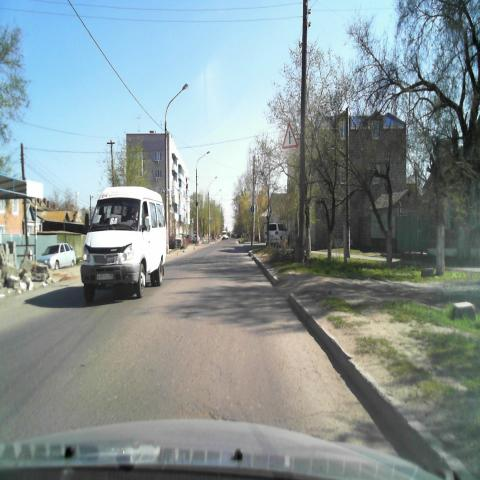2_3_2: (280, 121, 298, 148)
4_1_1: (250, 204, 255, 213)
